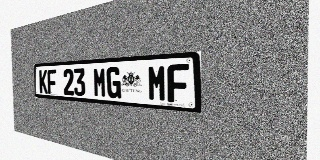2: (63, 69, 74, 95)
3: (74, 68, 85, 96)
F: (167, 64, 189, 103), (47, 69, 57, 94)
G: (106, 67, 121, 99)
K: (39, 70, 48, 94)
M: (148, 65, 167, 102), (93, 67, 107, 98)
